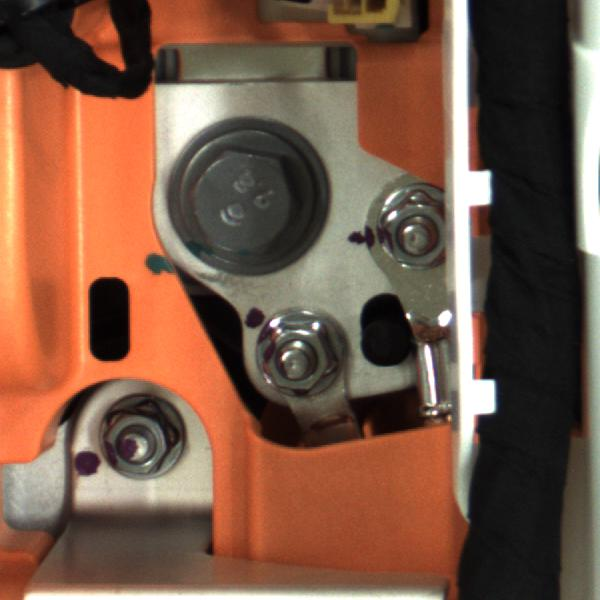nut_b: (162, 116, 336, 264)
screw_s: (252, 299, 357, 412), (88, 387, 196, 489), (376, 172, 455, 282)
